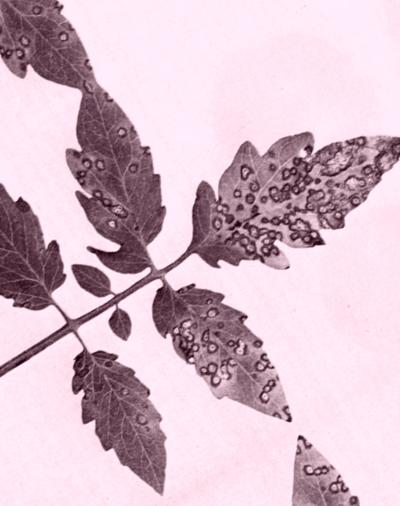Tomato Septoria leaf spot: (161, 63, 400, 307), (22, 73, 214, 287), (138, 250, 309, 456), (36, 329, 211, 506), (0, 144, 90, 337)
